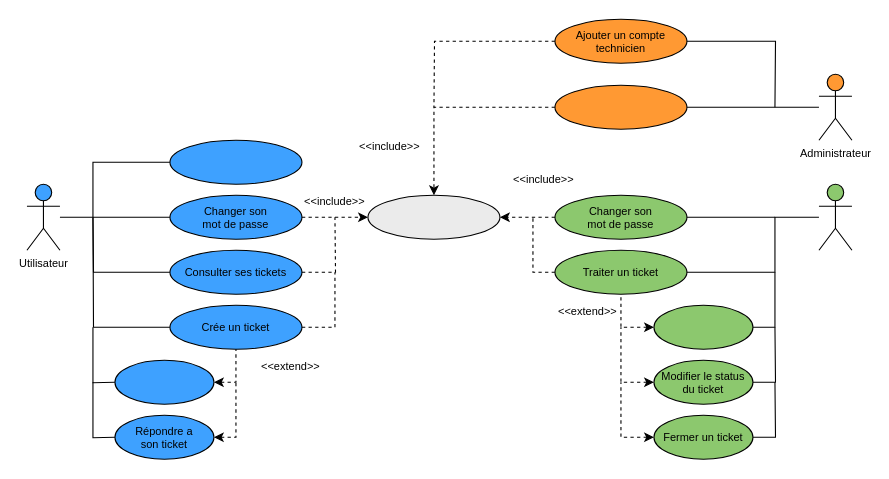
Some shapes in this 889 by 479 pixel diagram are drawn without their labels. Here are the shapes that lost their labels. From the top down, the centre of each, then its label:
point 620,106: Supprimer un compte technicien
point 235,161: Crée un compte
point 433,216: S'authentifier
point 835,216: Technicien
point 703,326: Répondre au ticket
point 164,381: Fermer son ticket
